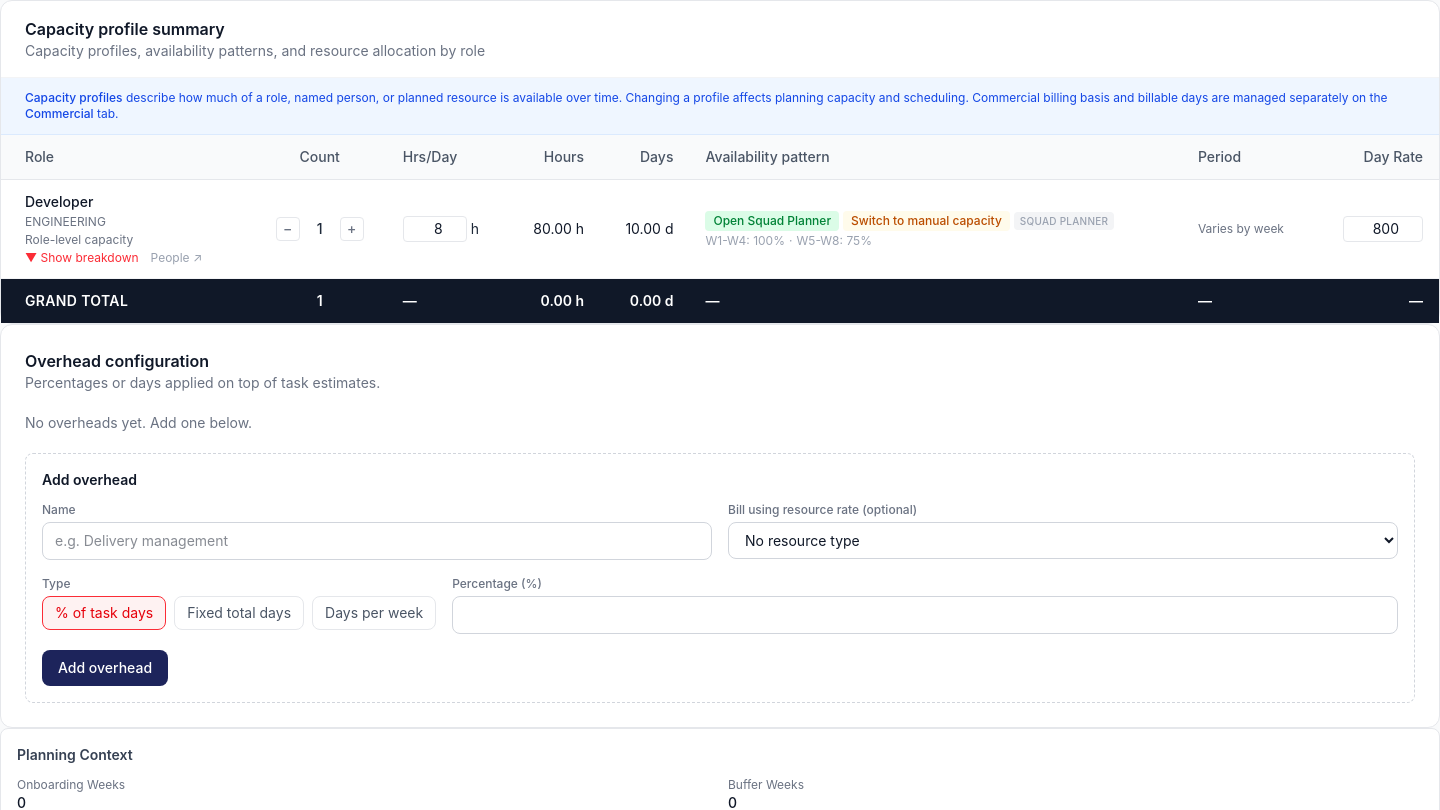
Test case: Switch to manual capacity › shows error state when transfer fails
// Open dialog and confirm
Click the button titled "Transfer this role".
click(926, 220)  # box [843,210,1010,230]
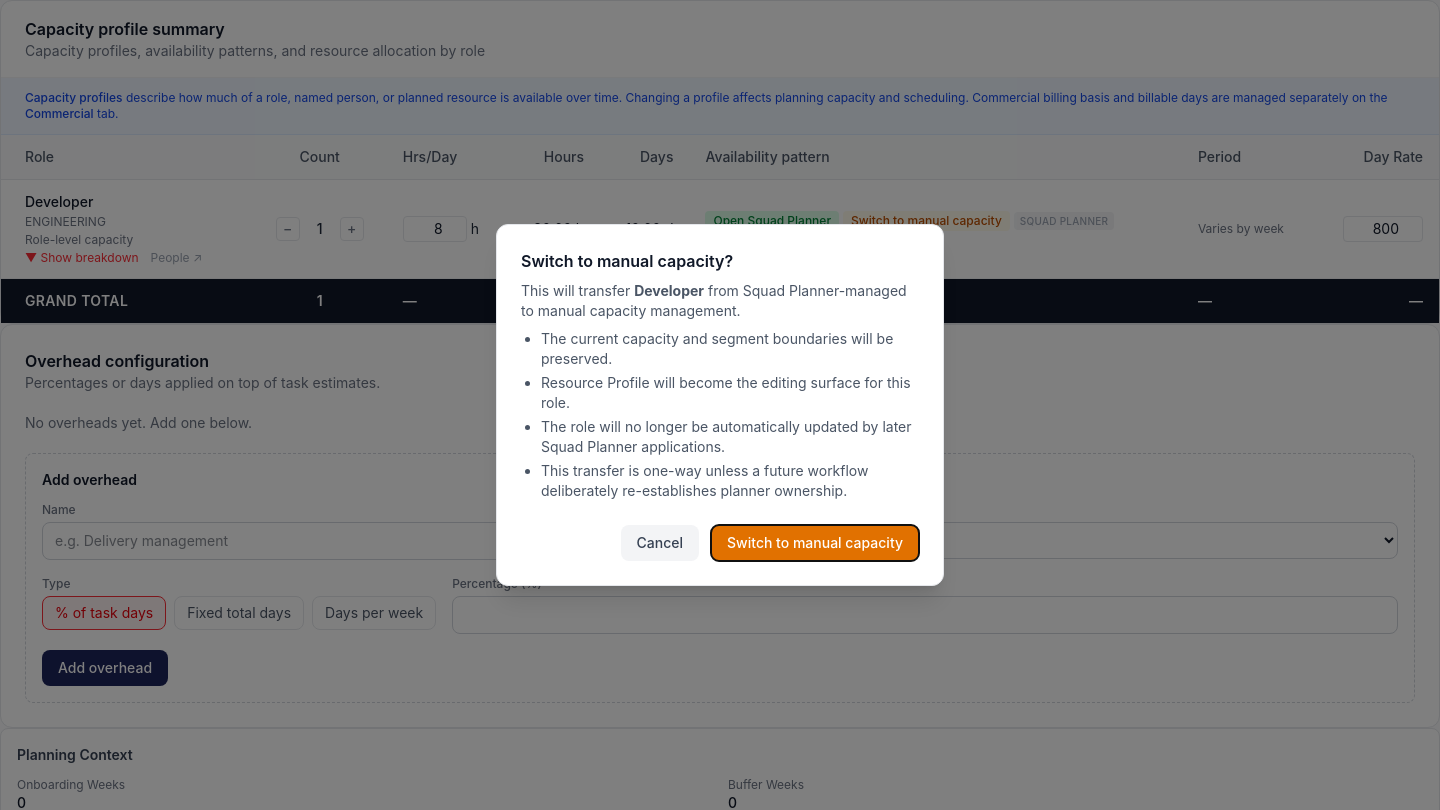
Click the button "Switch to manual capacity".
click(815, 543)  # box [711,525,919,561]
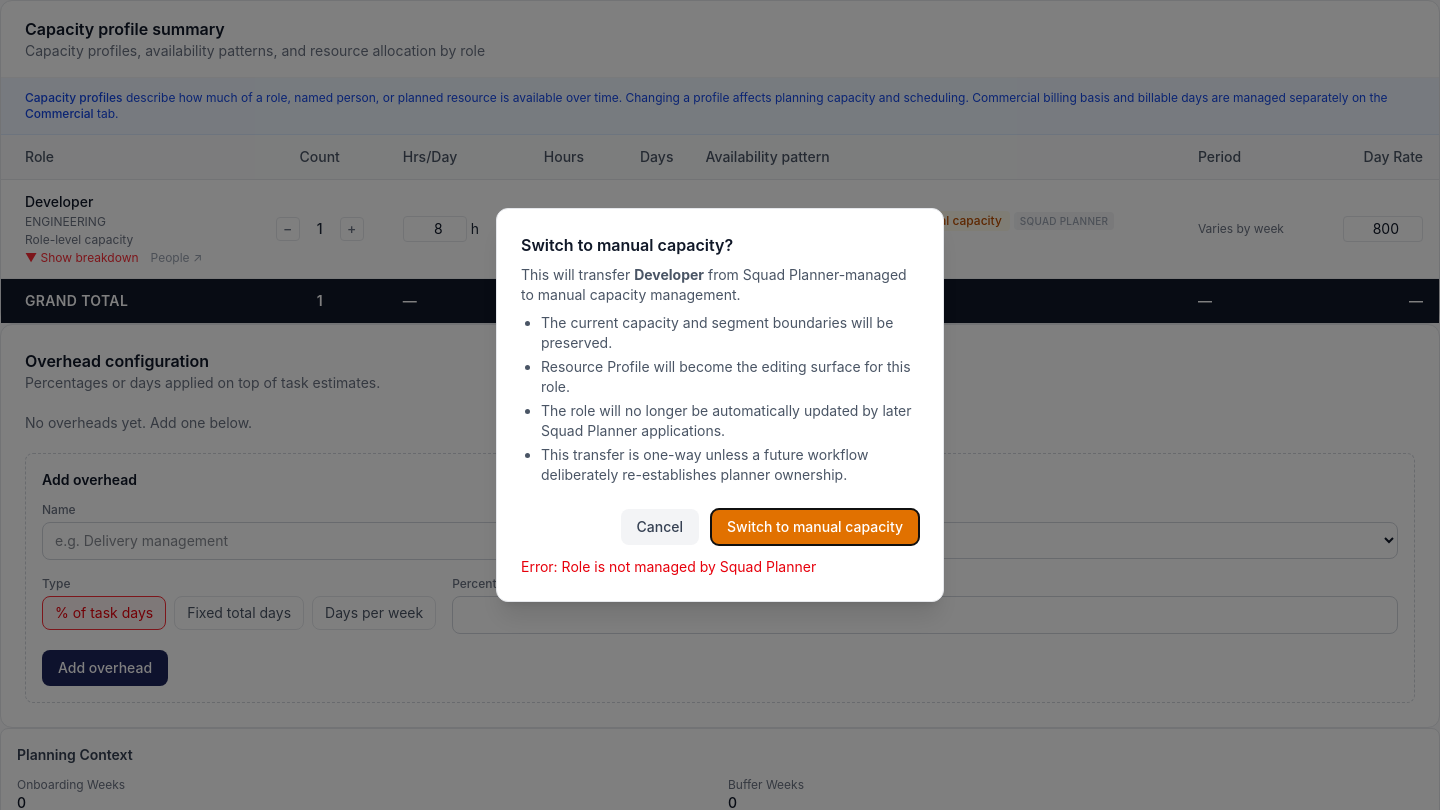
Now the dialog is shown
Now the text "Error: Role is not managed by Squad Planner" is shown, box [521,558,816,575]
